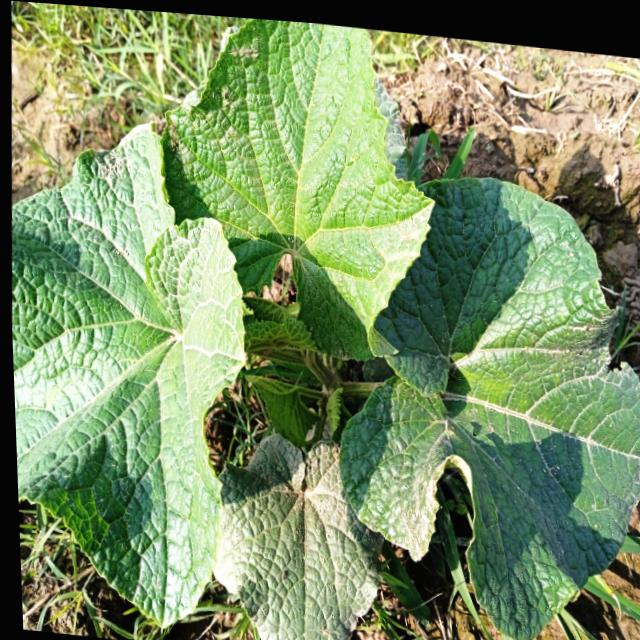Fresh-Leaf: (159, 18, 435, 357)
